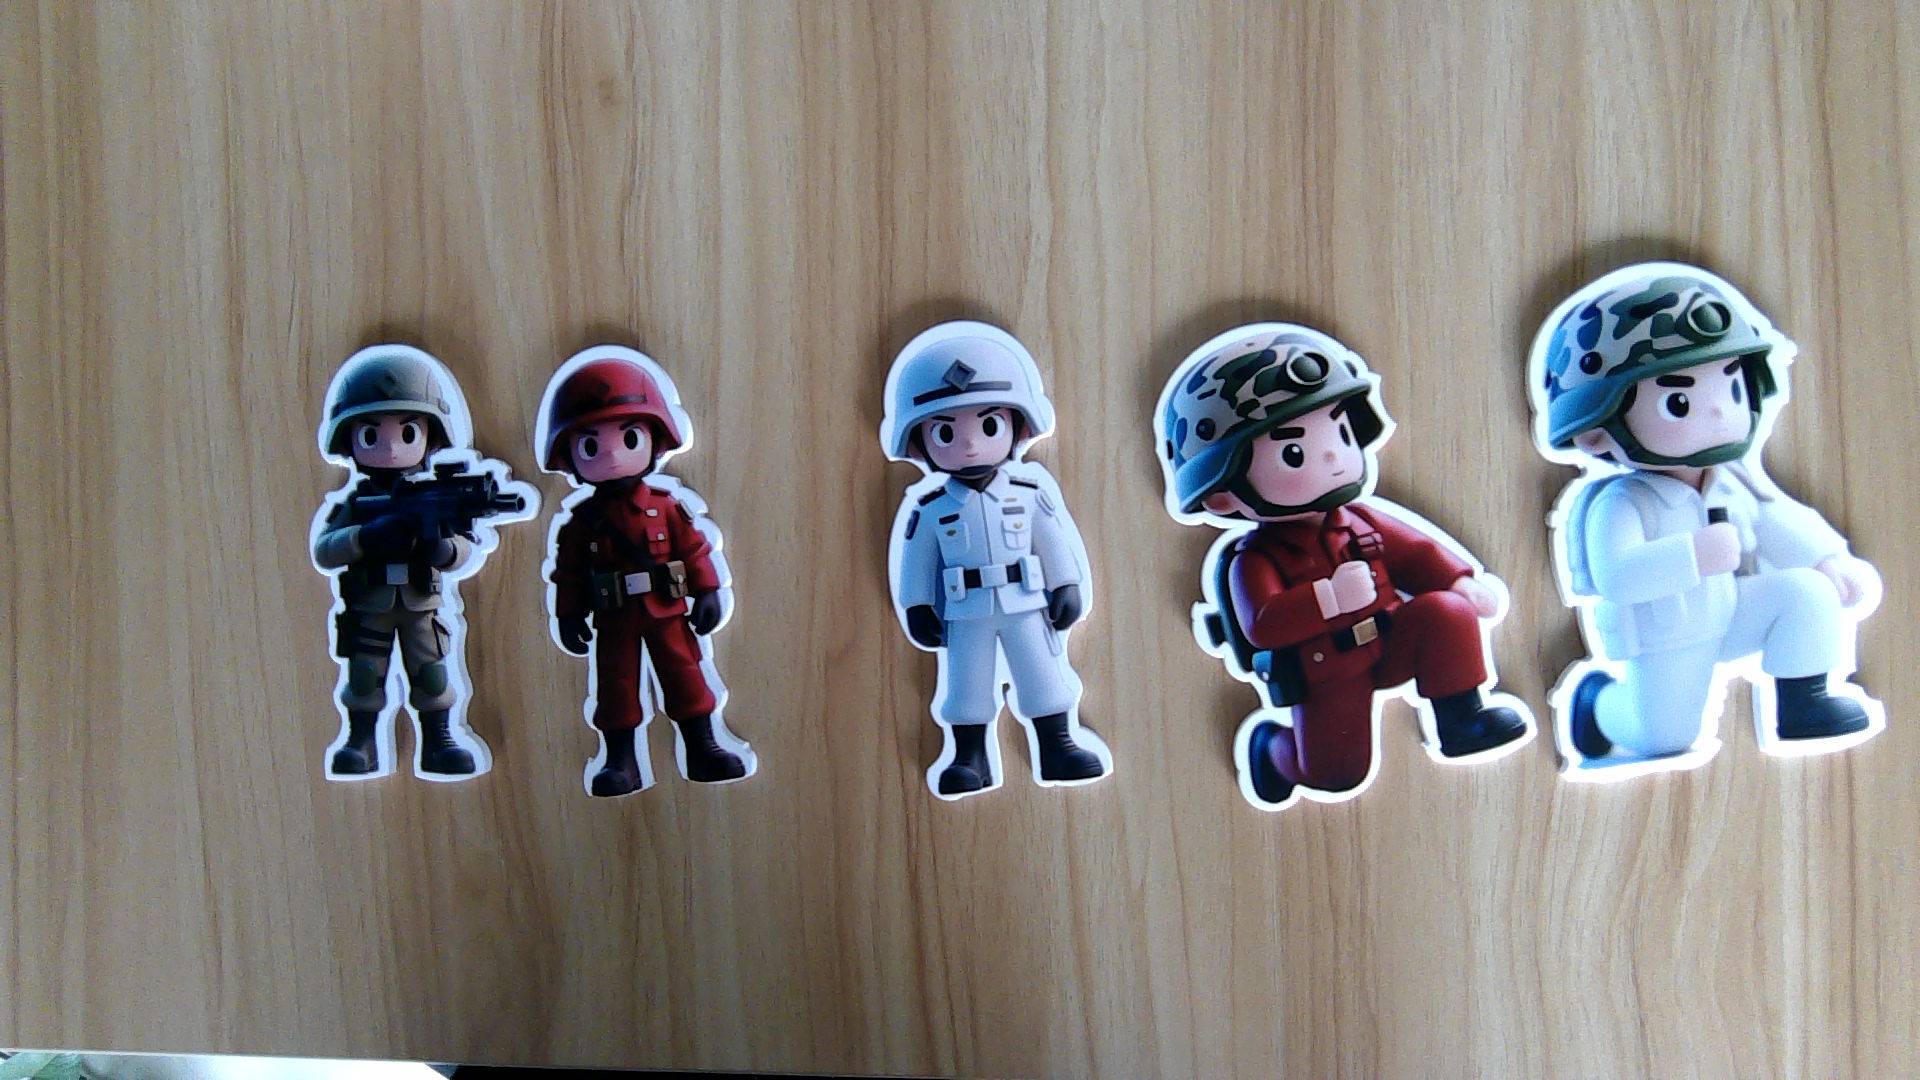人质: (1542, 473, 1895, 783), (887, 465, 1116, 804)
友军: (309, 473, 527, 781)
敌人1: (1187, 525, 1535, 807), (545, 483, 764, 795)
